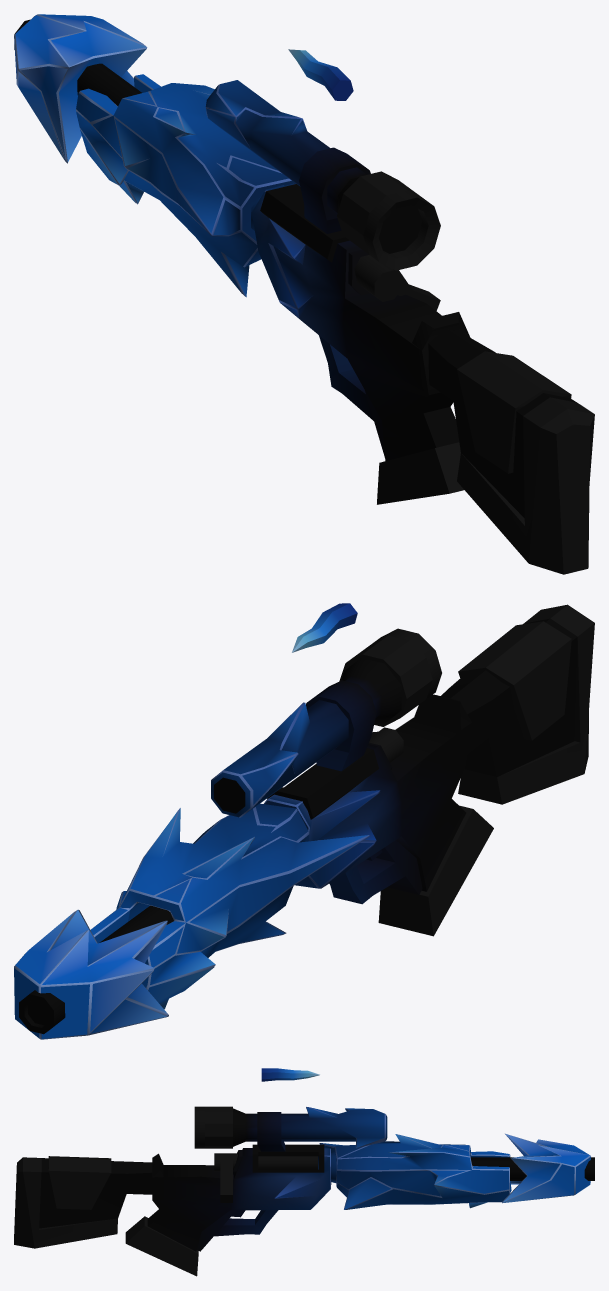
The model's file is ice_cs_test_babylone.glb.
3 renders of one model, top to bottom at view 1: azimuth 30°, elevation 25°; view 2: azimuth 150°, elevation 25°; view 3: azimuth 270°, elevation 25°, orthographic. The views are drawn at different scales.
Parts seen in each view (by area): view 1: thuggin.007; view 2: thuggin.007; view 3: thuggin.007.
Boxes of the visible parts, box(x1,y1,x2,y2) form: thuggin.007: box(14, 14, 594, 574); thuggin.007: box(14, 603, 594, 1039); thuggin.007: box(14, 1068, 594, 1276).
Size of the model in its own units: 0.0835 by 0.2198 by 0.5766.
